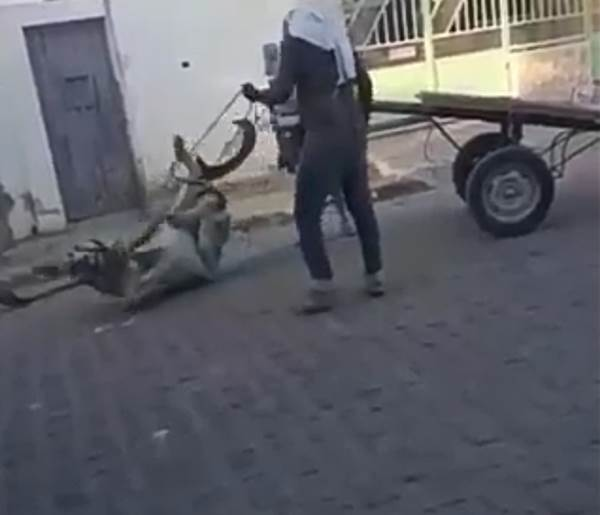Humano: (240, 2, 400, 312)
